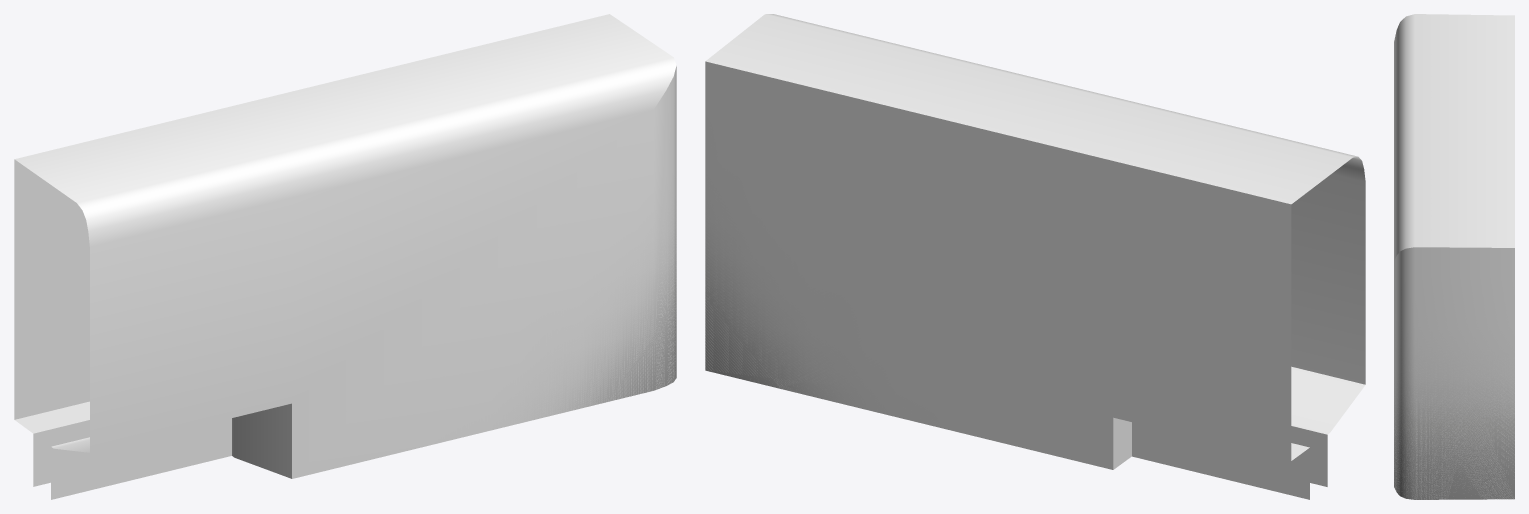
Rendered from original-80.obj.
The picture shows the model from 3 angles, left to right: view 1: azimuth 30°, elevation 25°; view 2: azimuth 150°, elevation 25°; view 3: azimuth 270°, elevation 25°; orthographic projection. The views are drawn at different scales.
Parts seen in each view (by area): view 1: DF_21_TR2/DF_21_TR/mesh39/mesh39-geometry#mesh39-geometry; view 2: DF_21_TR2/DF_21_TR/mesh39/mesh39-geometry#mesh39-geometry; view 3: DF_21_TR2/DF_21_TR/mesh39/mesh39-geometry#mesh39-geometry.
Part boxes in pixels (x1=…): DF_21_TR2/DF_21_TR/mesh39/mesh39-geometry#mesh39-geometry: x1=14, y1=14, x2=676, y2=499; DF_21_TR2/DF_21_TR/mesh39/mesh39-geometry#mesh39-geometry: x1=705, y1=14, x2=1365, y2=499; DF_21_TR2/DF_21_TR/mesh39/mesh39-geometry#mesh39-geometry: x1=1394, y1=14, x2=1514, y2=499.
Bounding box in the file's own units: 0.1444 × 0.073 × 0.0316.
